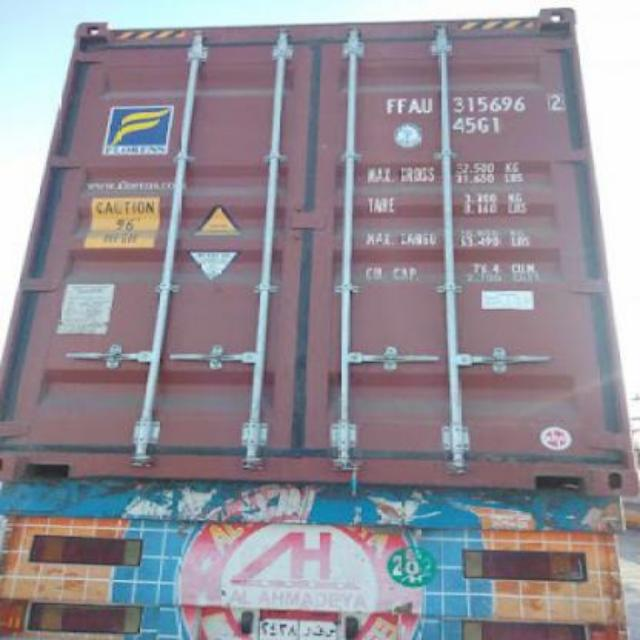1: (466, 94, 476, 114)
2: (550, 93, 562, 111)
3: (452, 94, 466, 112)
5: (476, 94, 489, 114)
6: (488, 96, 504, 114), (514, 94, 528, 114)
9: (502, 94, 512, 112)
A: (408, 95, 420, 115)
F: (394, 98, 410, 118), (386, 95, 396, 116)
U: (421, 95, 434, 115)
